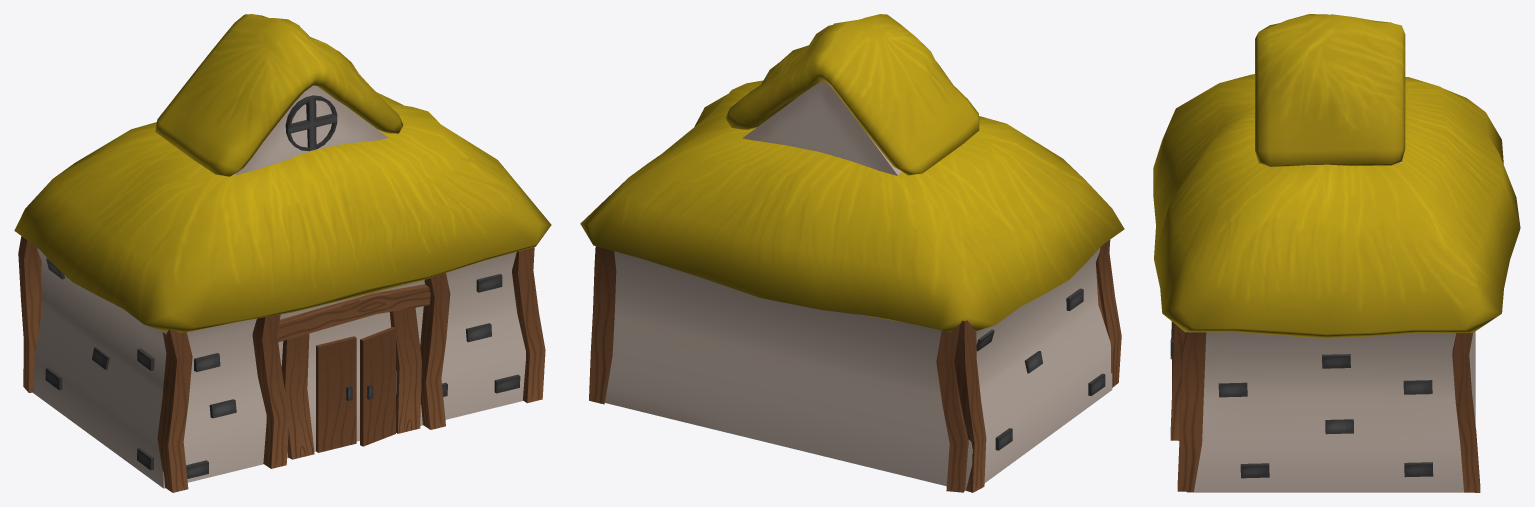
Rendered from export huisje quinto 2.fbx.
The picture shows the model from 3 angles, left to right: view 1: azimuth 30°, elevation 25°; view 2: azimuth 150°, elevation 25°; view 3: azimuth 270°, elevation 25°; orthographic projection. The views are drawn at different scales.
Parts seen in each view (by area): view 1: roof_1, base, roof_2, stam_big8, door_base, roof_base, door_base1, stam, polySurface2, polySurface5, polySurface4, stam_big7 (+3 smaller); view 2: roof_1, base, roof_2, roof_base, polySurface3, stam_big7, stam_big6, polySurface1; view 3: roof_1, base, roof_2, polySurface2, polySurface3, stam_big8, stone7, stone12, stone11, stone10, stone9, stone8.
Boxes of the visible parts, box(x1,y1,x2,y2) form: roof_1: box(14, 92, 551, 332); base: box(33, 247, 525, 488); roof_2: box(155, 14, 403, 176); stam_big8: box(252, 273, 450, 468); door_base: box(316, 336, 356, 452); roof_base: box(235, 85, 388, 174); door_base1: box(360, 327, 395, 446); stam: box(277, 284, 430, 342); polySurface2: box(512, 247, 545, 403); polySurface5: box(389, 307, 421, 433); polySurface4: box(281, 333, 314, 459); stam_big7: box(18, 236, 42, 392); roof_1: box(580, 80, 1124, 332); base: box(605, 248, 1112, 491); roof_2: box(725, 14, 979, 175); roof_base: box(742, 81, 901, 175); polySurface3: box(589, 246, 616, 404); stam_big7: box(954, 320, 986, 492); stam_big6: box(936, 324, 968, 492); polySurface1: box(1096, 240, 1121, 387); roof_1: box(1153, 74, 1520, 338); base: box(1187, 331, 1475, 492); roof_2: box(1255, 14, 1405, 166); polySurface2: box(1177, 332, 1206, 491); polySurface3: box(1452, 332, 1480, 492); stam_big8: box(1170, 321, 1185, 440); stone7: box(1240, 463, 1269, 478); stone12: box(1403, 380, 1432, 394); stone11: box(1404, 462, 1433, 477); stone10: box(1325, 419, 1353, 434); stone9: box(1322, 354, 1350, 368); stone8: box(1218, 382, 1247, 397).
Bounding box in the file's own units: 16.98 × 14.13 × 12.25.
1 material, 1 textured.
